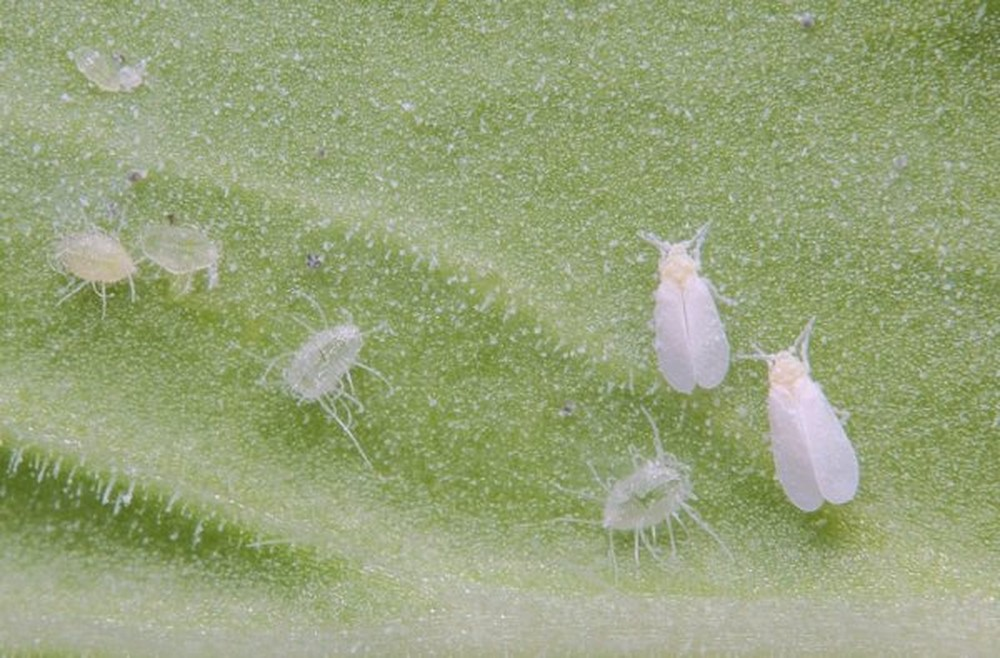Mosca Blanca: (742, 324, 894, 518), (608, 214, 756, 410)
